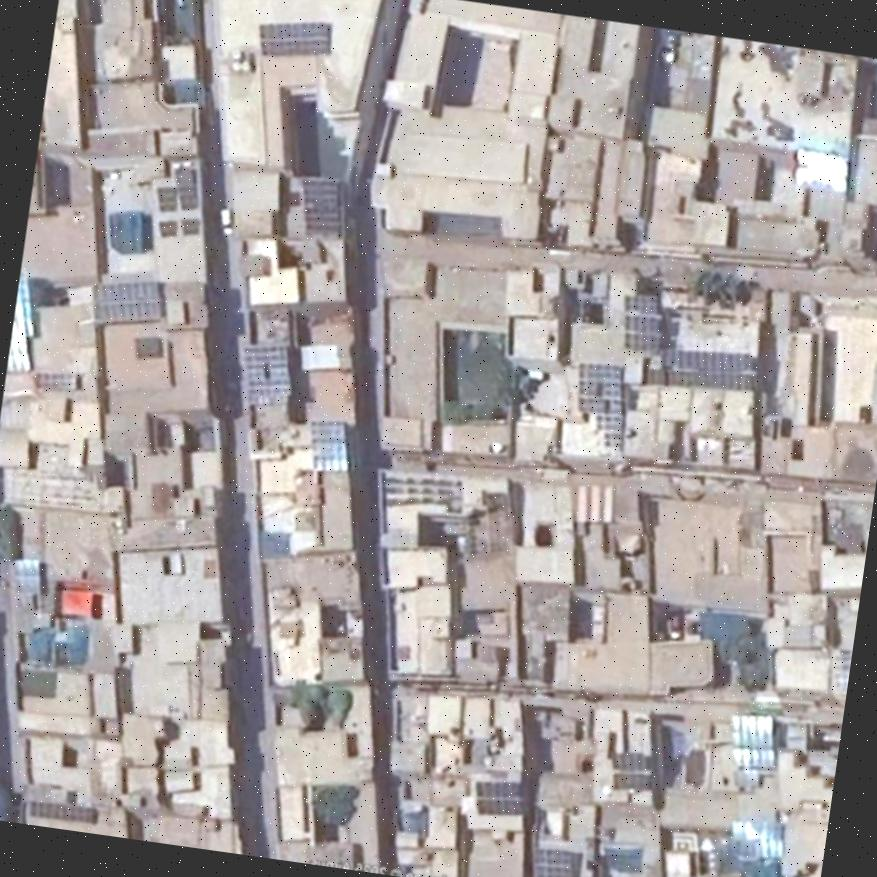Solarpanel: (92, 282, 160, 322), (244, 341, 289, 396), (580, 360, 624, 414), (299, 177, 341, 232), (731, 714, 775, 766), (730, 819, 785, 857), (257, 23, 327, 52), (660, 347, 747, 368), (312, 420, 347, 471), (623, 295, 656, 346), (612, 751, 651, 789), (474, 782, 524, 811), (27, 800, 94, 820), (532, 847, 570, 877), (178, 185, 198, 207), (156, 186, 174, 209)
